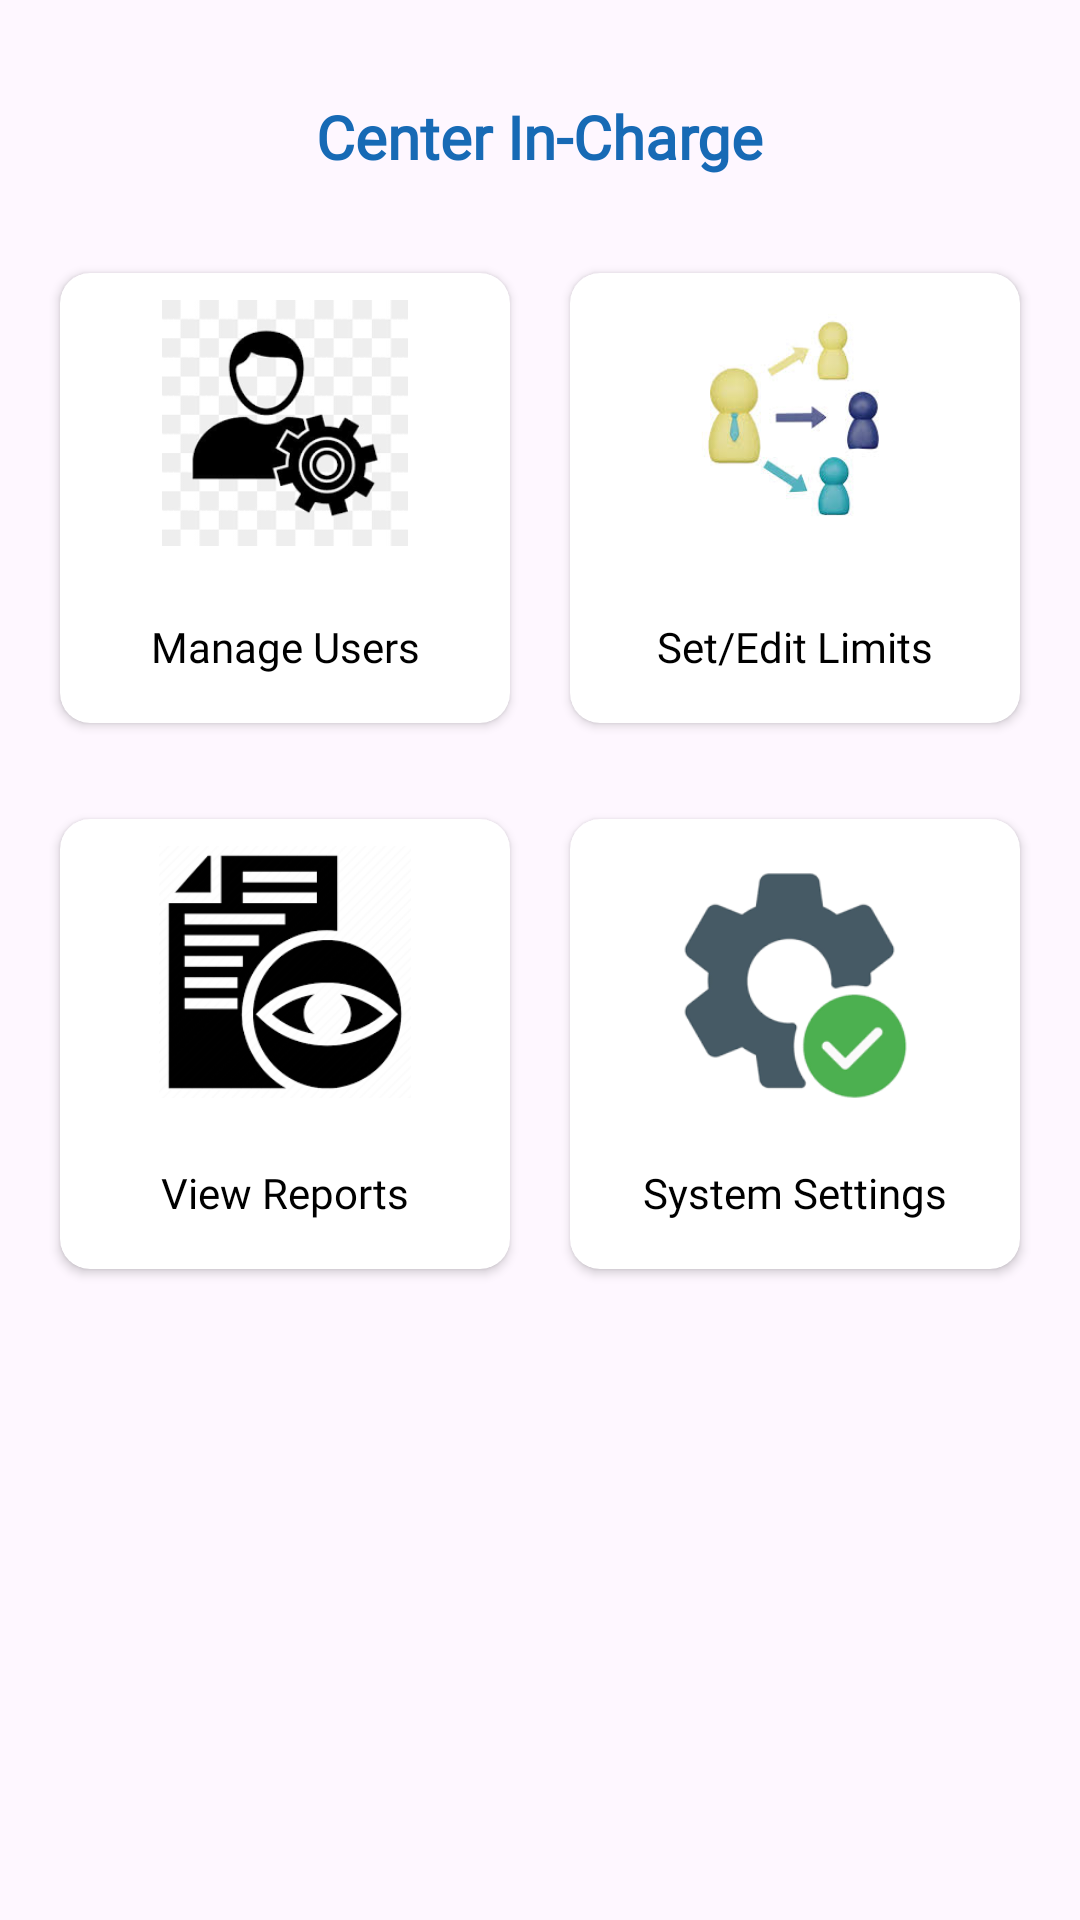

Icons on this 1080×1920 Android screen, each with the point to tap as (x,y):
assign roles: (793,418)
